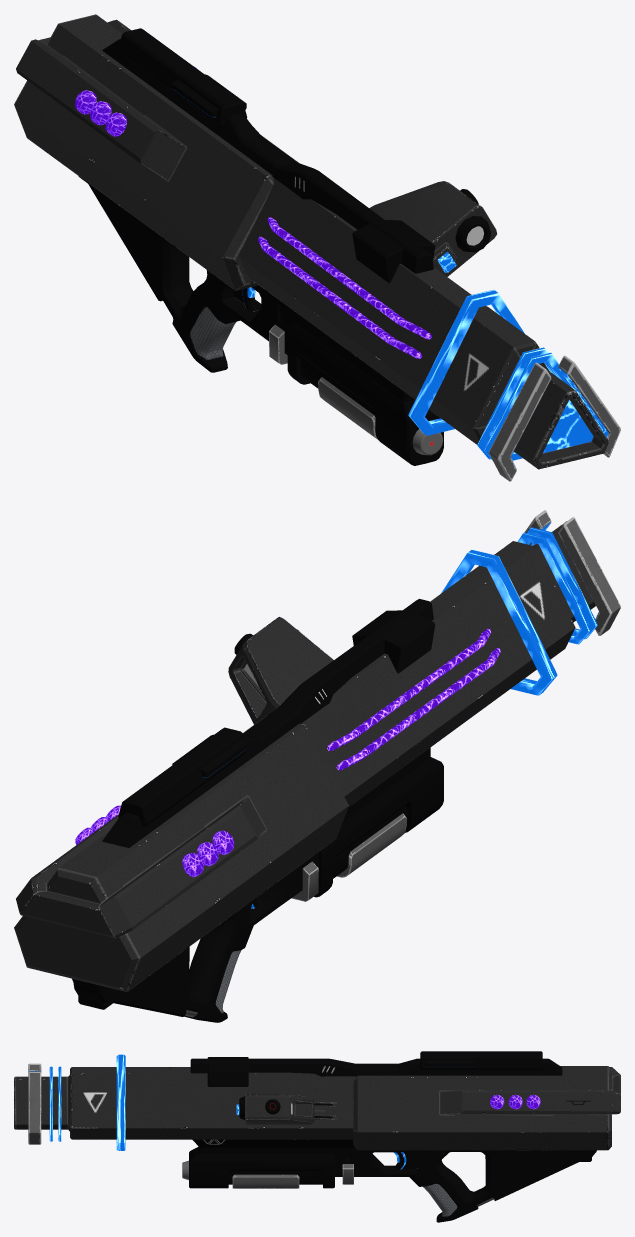
3 renders of one model, top to bottom at view 1: azimuth 30°, elevation 25°; view 2: azimuth 150°, elevation 25°; view 3: azimuth 270°, elevation 25°, orthographic. The views are drawn at different scales.
Visible parts, largest first — view 1: pCube4, polySurface35, scope; view 2: pCube4, polySurface35, scope; view 3: pCube4, polySurface35, scope.
Boxes of the visible parts, box(x1,y1,x2,y2) form: pCube4: box(14, 14, 620, 481); polySurface35: box(78, 28, 443, 465); scope: box(369, 181, 496, 276); pCube4: box(14, 510, 620, 991); polySurface35: box(72, 599, 443, 1022); scope: box(228, 616, 333, 724); pCube4: box(14, 1054, 620, 1150); polySurface35: box(182, 1051, 596, 1222); scope: box(236, 1093, 336, 1124).
Bounding box in the file's own units: 0.2027 × 0.28 × 0.9238.
Materials: 2 (1 with a texture image).
